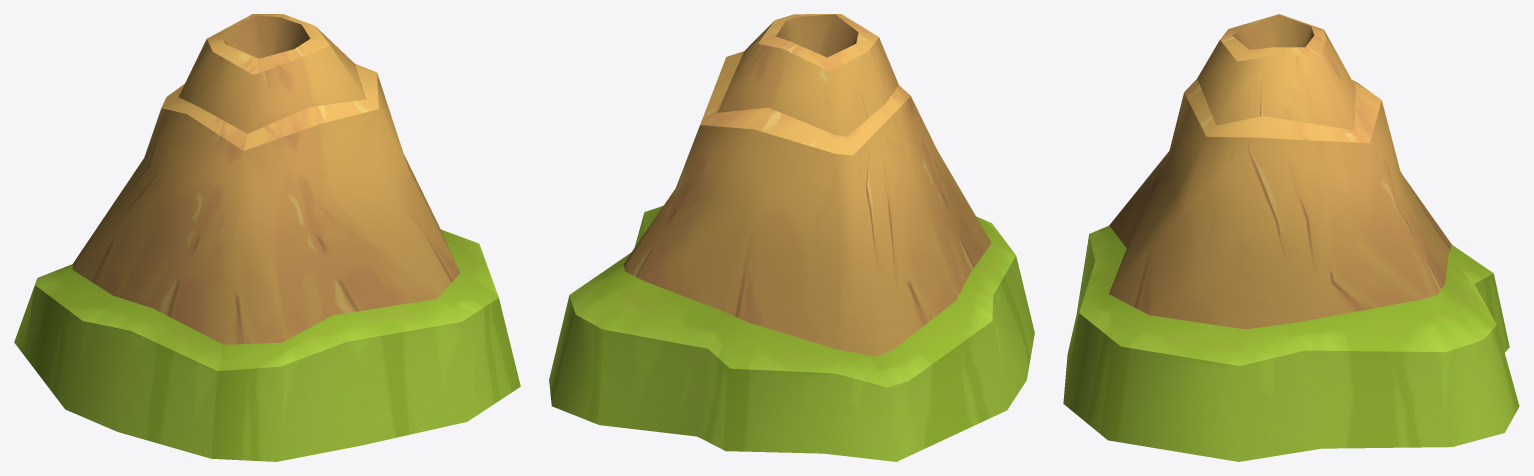
Rendered from generic_model_mountain_large_volcano.fbx.
3 views of the same model, side by side, from view 1: azimuth 30°, elevation 25°; view 2: azimuth 150°, elevation 25°; view 3: azimuth 270°, elevation 25° (orthographic).
Parts seen in each view (by area): view 1: generic_model_mountain_large_volcano; view 2: generic_model_mountain_large_volcano; view 3: generic_model_mountain_large_volcano.
Part boxes in pixels (left/top/right/bottom): generic_model_mountain_large_volcano: left=14, top=14, right=520, bottom=461; generic_model_mountain_large_volcano: left=549, top=14, right=1034, bottom=461; generic_model_mountain_large_volcano: left=1063, top=14, right=1519, bottom=461.
Size of the model in its own units: 9.52 by 7.4 by 9.31.
